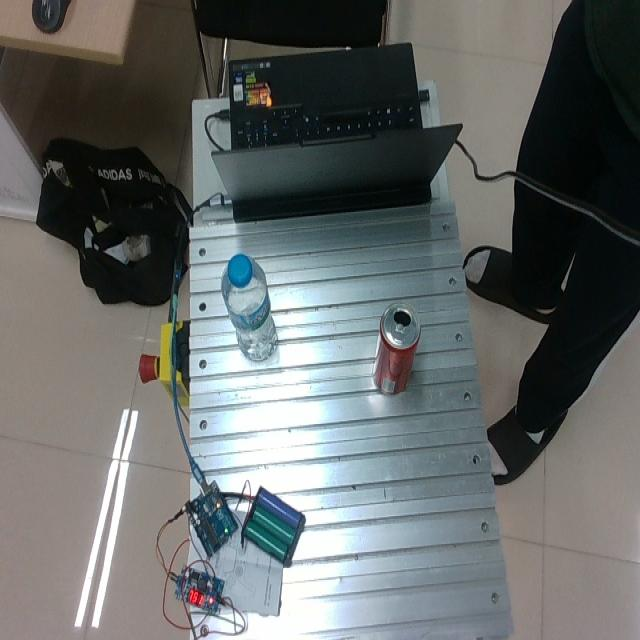coca: (371, 301, 421, 396)
lavie: (221, 252, 278, 361)
